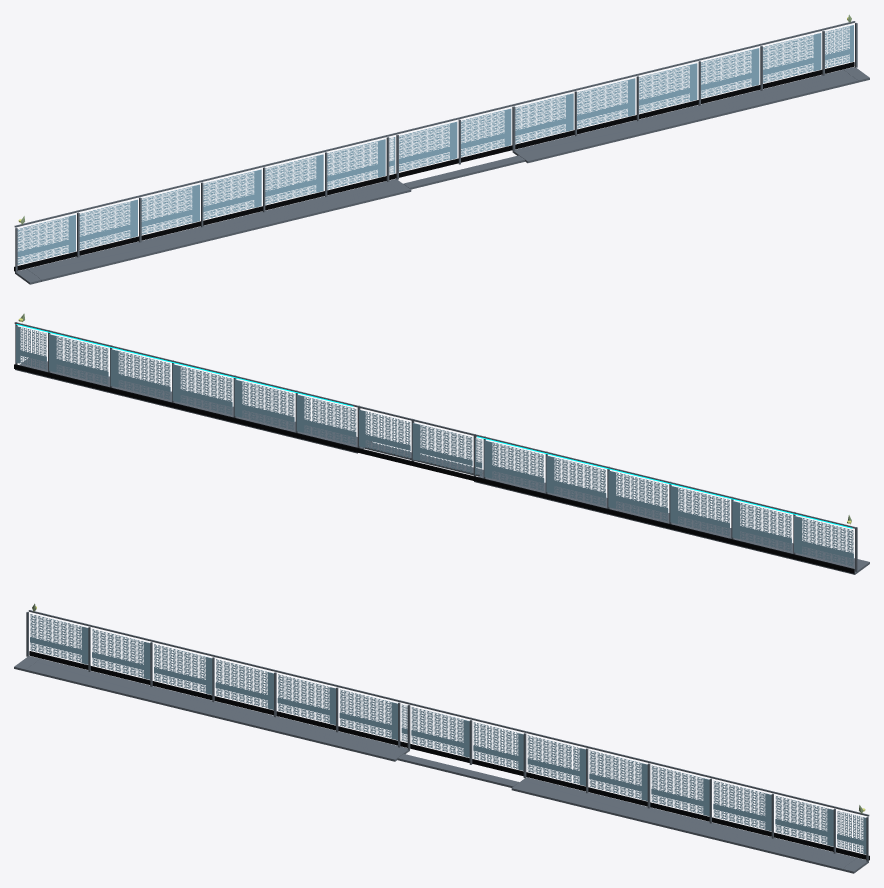
File: tt_corridor_catwalk.glb
The picture shows the model from 3 angles, top to bottom: view 1: azimuth 30°, elevation 25°; view 2: azimuth 150°, elevation 25°; view 3: azimuth 330°, elevation 25°; orthographic projection.
Visible parts, largest first — view 1: Catwalk_Pane_Scissor, Catwalk_Grating, Catwalk_Kick, Catwalk_Post, Catwalk_Handrail, Catwalk_Bypass; view 2: Catwalk_Pane_Scissor, Catwalk_Grating, Catwalk_Kick, Catwalk_Handrail, Catwalk_Post, Catwalk_SportStripe, Catwalk_Bypass; view 3: Catwalk_Pane_Scissor, Catwalk_Grating, Catwalk_Kick, Catwalk_Post, Catwalk_Handrail, Catwalk_Bypass.
Boxes of the visible parts, bbox=[...] form: Catwalk_Pane_Scissor: bbox=[17, 25, 853, 264]; Catwalk_Grating: bbox=[27, 70, 858, 281]; Catwalk_Kick: bbox=[14, 62, 854, 271]; Catwalk_Post: bbox=[15, 23, 857, 272]; Catwalk_Handrail: bbox=[14, 21, 855, 227]; Catwalk_Bypass: bbox=[403, 155, 524, 189]; Catwalk_Pane_Scissor: bbox=[16, 326, 853, 566]; Catwalk_Grating: bbox=[27, 361, 857, 571]; Catwalk_Kick: bbox=[14, 364, 854, 573]; Catwalk_Handrail: bbox=[14, 322, 855, 528]; Catwalk_Post: bbox=[15, 322, 857, 571]; Catwalk_SportStripe: bbox=[16, 324, 852, 528]; Catwalk_Bypass: bbox=[364, 442, 483, 476]; Catwalk_Pane_Scissor: bbox=[30, 614, 866, 854]; Catwalk_Grating: bbox=[25, 659, 856, 870]; Catwalk_Kick: bbox=[29, 651, 869, 860]; Catwalk_Post: bbox=[26, 612, 868, 861]; Catwalk_Handrail: bbox=[28, 610, 869, 816]; Catwalk_Bypass: bbox=[397, 754, 519, 787].
Size of what is drawn, in the model's own units: 21.74 by 1.42 by 0.72.
6 materials, 3 textured.
